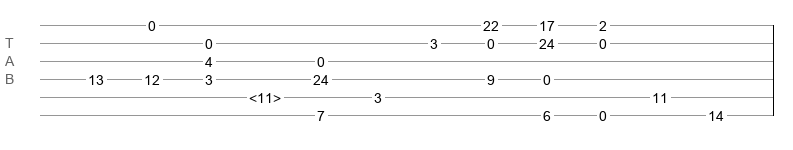0: (148, 18, 156, 28), (205, 36, 213, 46), (317, 54, 325, 64), (487, 36, 495, 46), (543, 72, 551, 82), (599, 36, 607, 46), (599, 108, 607, 118)
11: (652, 90, 668, 100)
12: (144, 72, 160, 82)
13: (88, 72, 104, 82)
14: (708, 108, 724, 118)
17: (539, 18, 555, 28)
2: (599, 18, 607, 28)
22: (483, 18, 499, 28)
24: (313, 72, 329, 82), (539, 36, 555, 46)
3: (205, 72, 213, 82), (374, 90, 382, 100), (430, 36, 438, 46)
4: (205, 54, 213, 64)
6: (543, 108, 551, 118)
7: (317, 108, 325, 118)
9: (487, 72, 495, 82)
harmonic: (249, 90, 281, 100)
